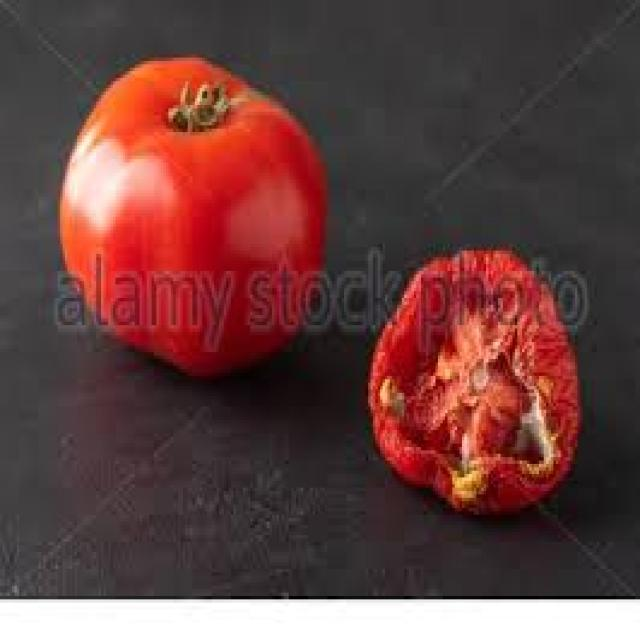biodegradable: (53, 51, 325, 372), (366, 244, 577, 511)
